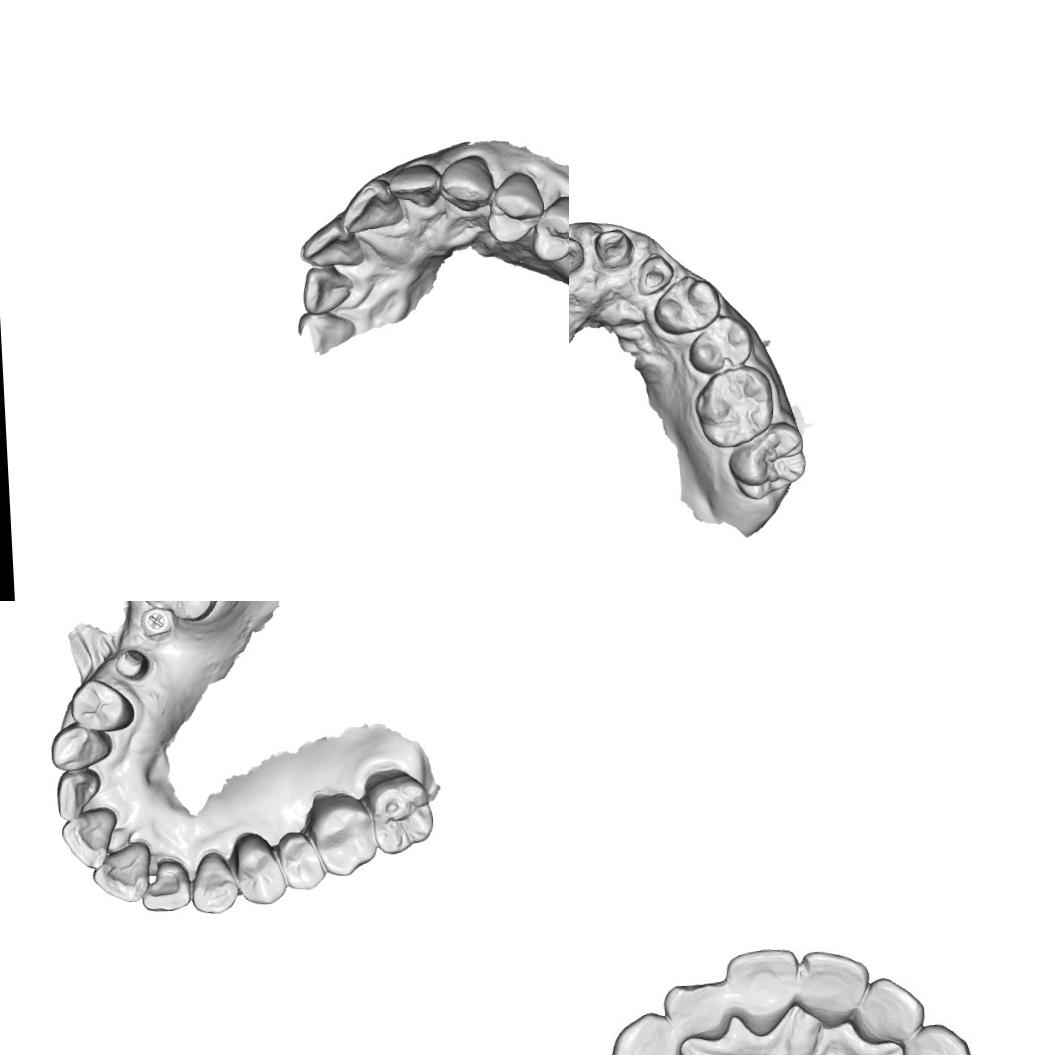abutment: (113, 644, 153, 682)
canine: (603, 1007, 690, 1055), (436, 152, 494, 214), (187, 849, 240, 914), (48, 719, 113, 771), (293, 310, 358, 358), (898, 1022, 977, 1055)
crown: (592, 226, 636, 271), (634, 252, 676, 296), (569, 232, 587, 281)
implant_plus: (138, 605, 175, 637)
incisor: (725, 946, 798, 1036), (794, 948, 870, 1030), (662, 973, 735, 1048), (853, 975, 922, 1048), (342, 176, 405, 242), (90, 838, 153, 904), (59, 805, 119, 870), (296, 216, 362, 268), (299, 262, 352, 317), (387, 159, 443, 211), (139, 859, 191, 912), (53, 768, 102, 820)
molar: (690, 363, 776, 450), (724, 418, 808, 502), (302, 790, 378, 878), (364, 771, 435, 855), (138, 601, 227, 624)
premolar: (483, 168, 545, 247), (650, 273, 722, 338), (232, 828, 288, 906), (685, 314, 753, 376), (68, 676, 136, 733), (275, 829, 326, 891), (530, 192, 569, 264)
